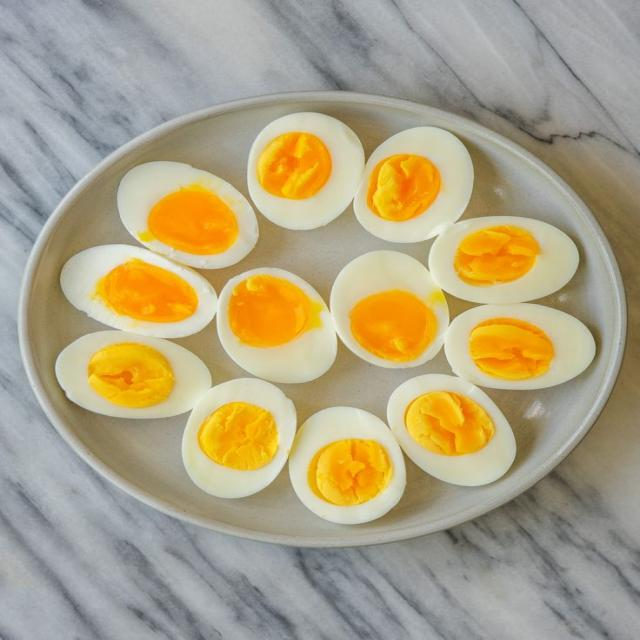eggs: (65, 106, 595, 528)
